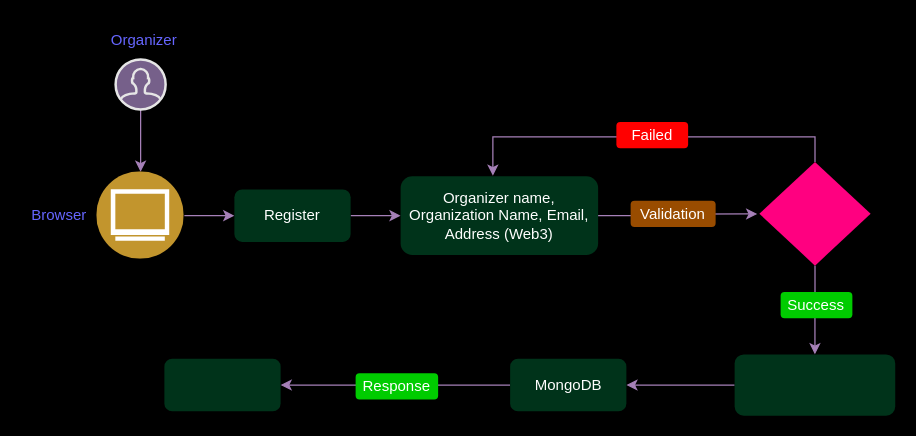
The diagram is 916 pixels wide and 436 high, and some of its shapes have lost their labels. Each missing label, with the centre of its shape:
"/register_api" goes at [814,384].
"Landing Page" goes at [222,384].
"User Validation" goes at [814,213].
